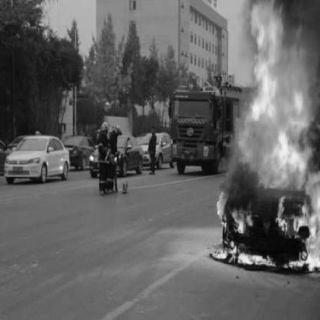Fire: (212, 4, 318, 268)
